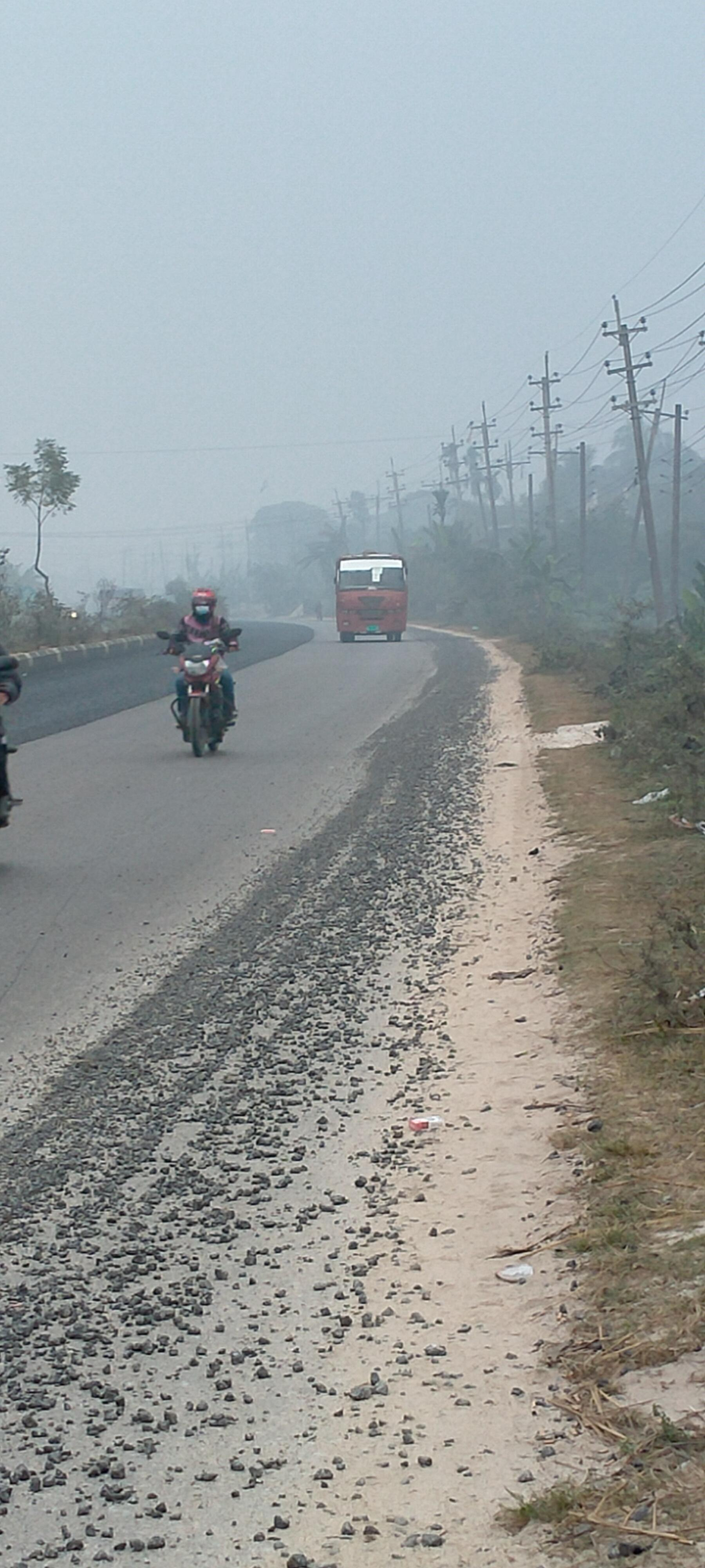Bike: (150, 578, 246, 780)
Bus: (320, 549, 427, 647)
